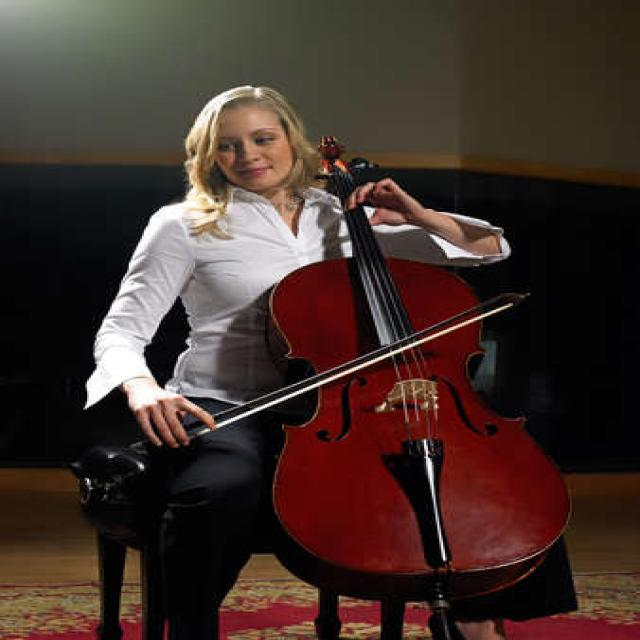cello: (253, 134, 575, 605)
